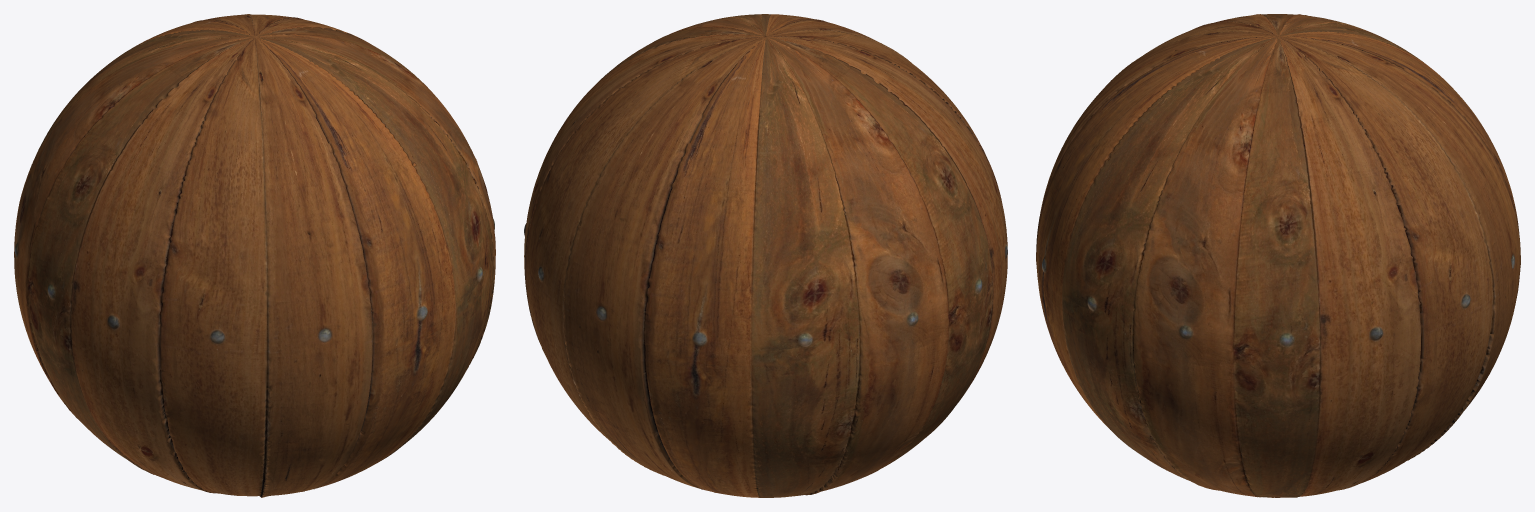
File: wood_shutter_1k.gltf
3 views of the same model, side by side, from view 1: azimuth 30°, elevation 25°; view 2: azimuth 150°, elevation 25°; view 3: azimuth 270°, elevation 25° (orthographic).
Parts seen in each view (by area): view 1: sphere_gltf; view 2: sphere_gltf; view 3: sphere_gltf.
Boxes of the visible parts, x1,y1,x2,y2 form: sphere_gltf: (14,14,495,497); sphere_gltf: (524,14,1007,497); sphere_gltf: (1036,14,1520,497).
Bounding box in the file's own units: 1 × 1 × 1.
Materials: 1 (1 with a texture image).
